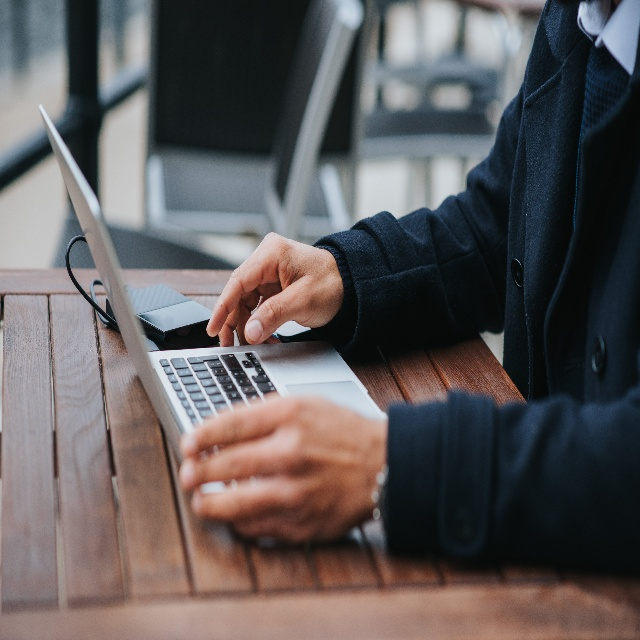Sin_guantes: (180, 392, 386, 537), (205, 233, 342, 346)
